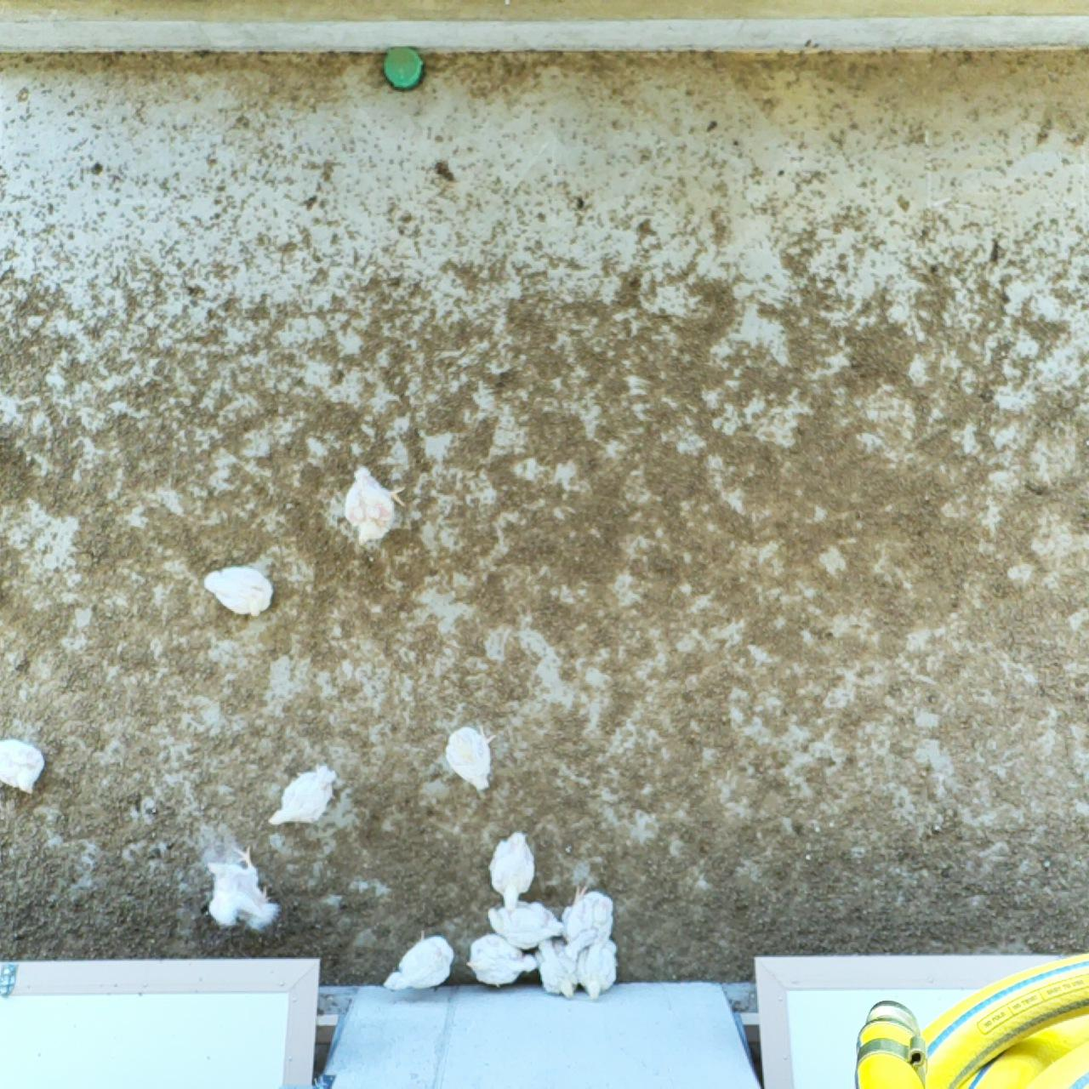chicken: (344, 465, 409, 547), (267, 761, 339, 830), (380, 927, 455, 992), (486, 895, 569, 952), (488, 830, 538, 915), (208, 879, 282, 934), (205, 562, 274, 620), (466, 931, 535, 989), (201, 844, 267, 901), (560, 883, 615, 951), (445, 722, 498, 792), (533, 931, 579, 1000), (0, 736, 48, 795), (577, 935, 619, 1001)
